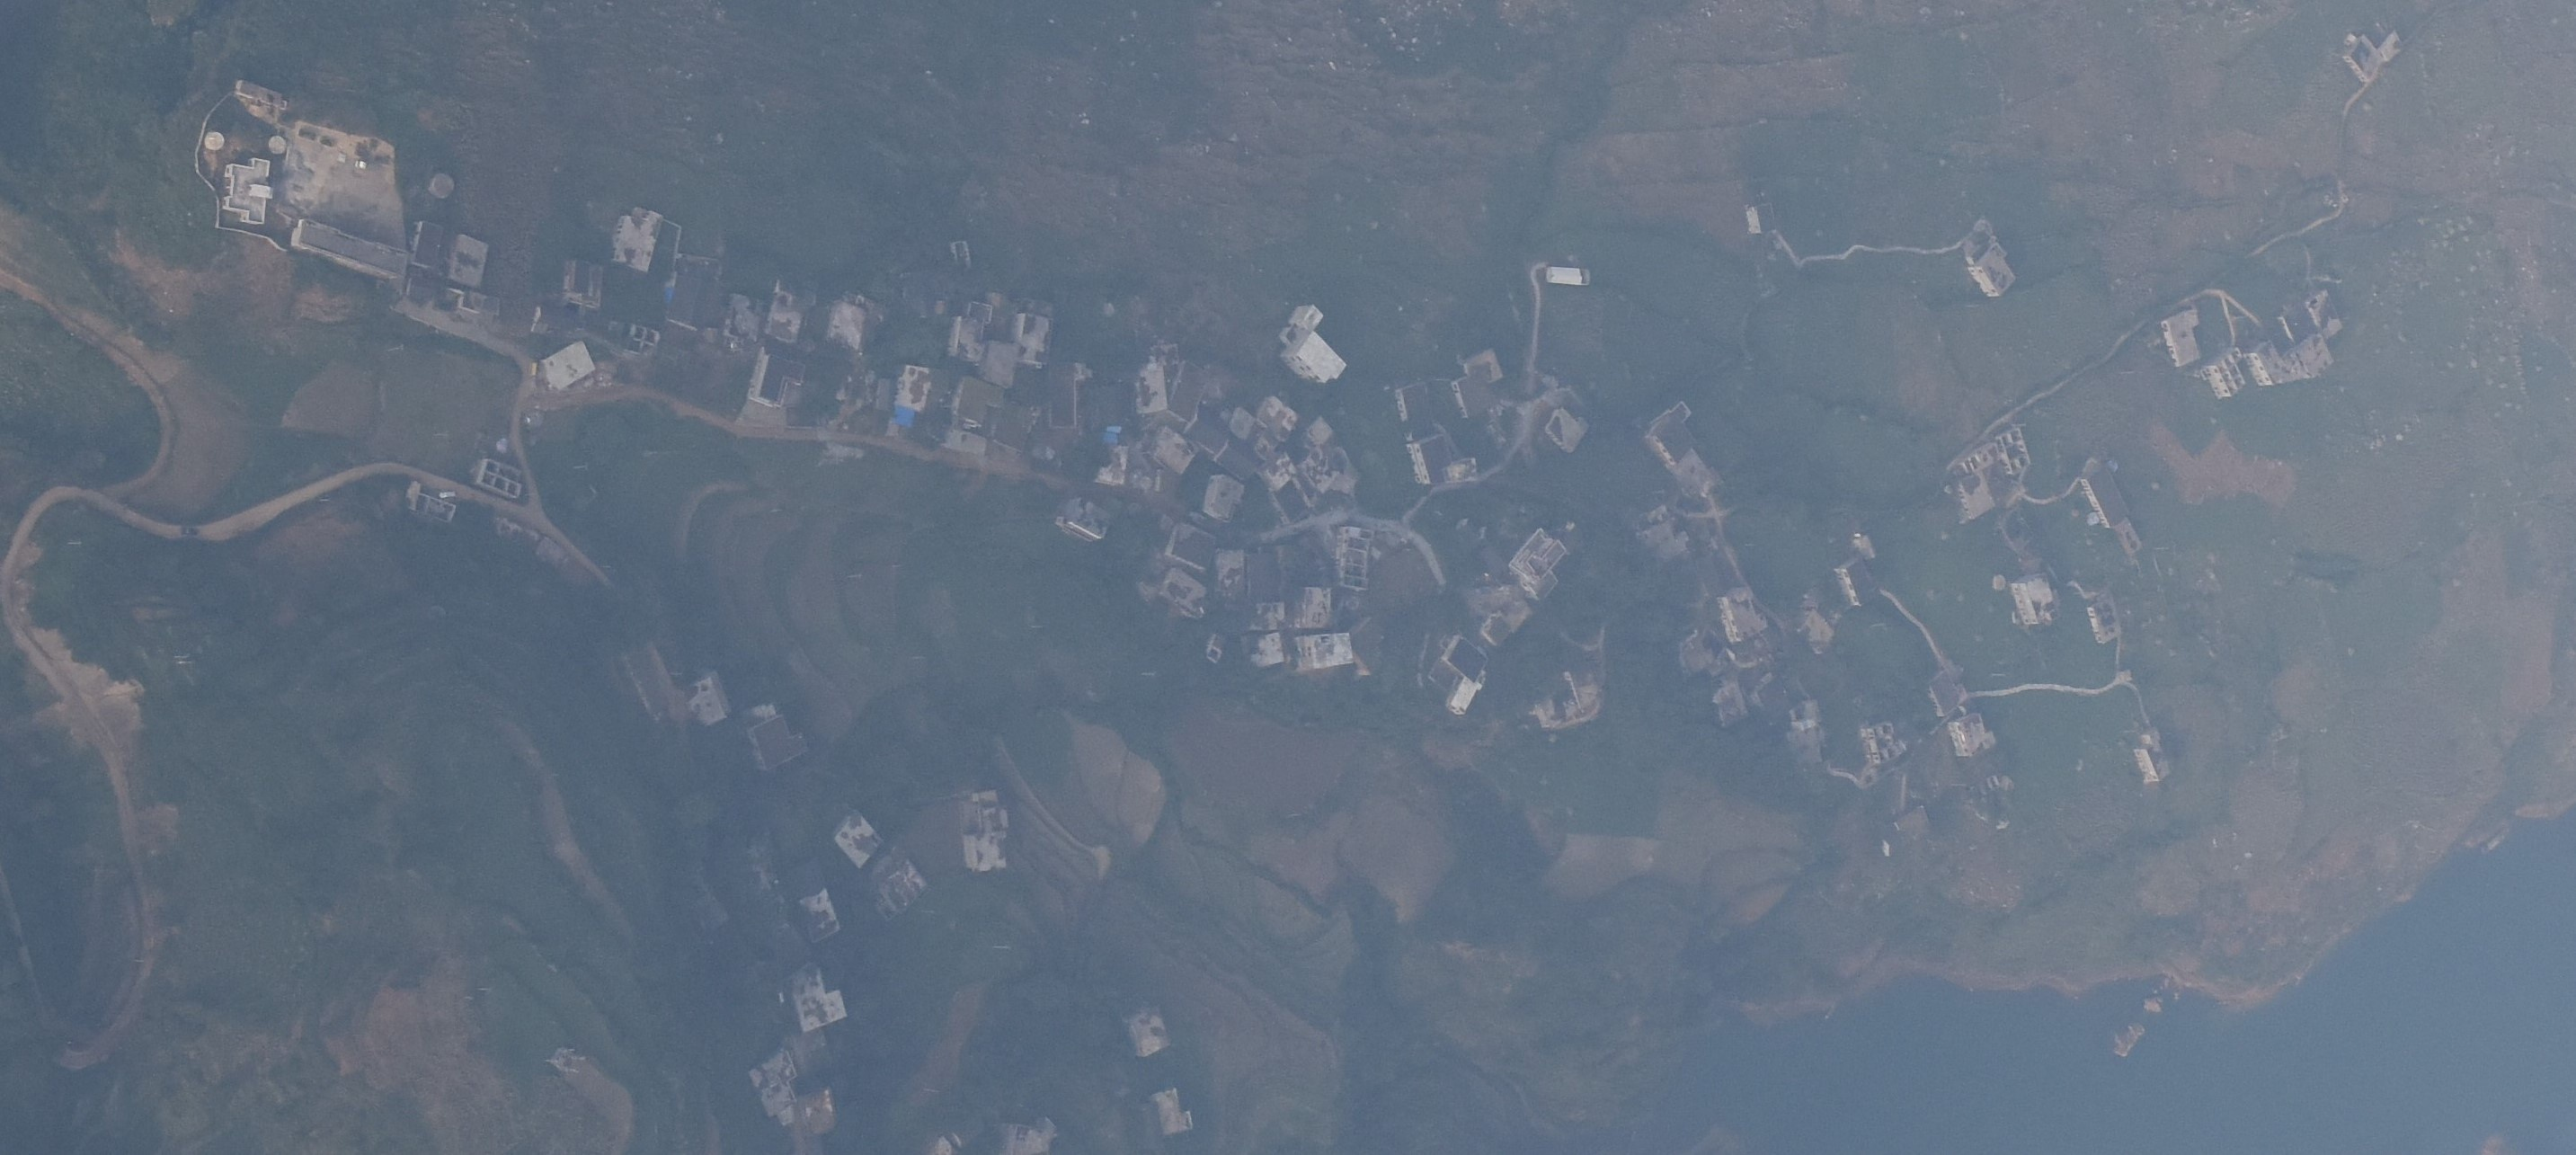building: (289, 218, 413, 284), (1283, 305, 1348, 386), (866, 845, 928, 922), (1507, 521, 1565, 602), (785, 967, 849, 1032), (606, 205, 663, 274), (220, 155, 276, 227), (1042, 356, 1094, 431), (746, 346, 805, 410), (751, 708, 810, 773), (745, 1049, 800, 1117), (947, 373, 1009, 432), (766, 281, 818, 348), (1715, 589, 1772, 645), (535, 340, 597, 392), (2081, 466, 2129, 532), (832, 808, 883, 870), (893, 362, 948, 418), (2244, 341, 2302, 395), (440, 226, 489, 289), (1644, 411, 1698, 467), (559, 253, 608, 315), (669, 268, 717, 330), (1155, 566, 1210, 621), (1964, 240, 2016, 298), (472, 456, 537, 501), (1830, 555, 1883, 609), (1170, 354, 1212, 424), (1127, 1002, 1177, 1061), (1053, 496, 1112, 545), (1337, 520, 1372, 598), (821, 297, 872, 351), (1162, 520, 1216, 571), (1297, 631, 1360, 674), (2159, 307, 2204, 368), (1123, 360, 1170, 416), (722, 286, 763, 351), (1742, 674, 1793, 726), (1204, 546, 1249, 603), (1148, 1087, 1201, 1136), (2286, 333, 2337, 384), (795, 1084, 844, 1134), (1288, 580, 1335, 633), (1147, 428, 1200, 475), (1440, 632, 1486, 686), (1449, 374, 1503, 420), (689, 667, 731, 726), (1009, 310, 1053, 365), (400, 485, 459, 526), (977, 341, 1023, 393), (1439, 670, 1488, 718), (1857, 717, 1906, 765), (2012, 573, 2055, 628), (2083, 598, 2130, 646), (2306, 288, 2350, 340), (2205, 346, 2248, 399), (971, 786, 1017, 835), (795, 889, 840, 938), (1409, 438, 1454, 487), (1543, 408, 1586, 459), (1203, 473, 1245, 525), (961, 831, 1014, 873), (1300, 442, 1343, 493), (1794, 609, 1838, 657), (1920, 670, 1963, 718), (1992, 430, 2036, 476), (1945, 714, 1991, 758), (1395, 381, 1438, 428), (1239, 629, 1287, 671), (1093, 443, 1130, 497), (949, 315, 987, 365), (1457, 347, 1506, 385), (1252, 450, 1295, 493), (1958, 472, 1994, 521), (412, 218, 443, 274), (2136, 739, 2172, 786), (2278, 303, 2321, 344), (1258, 395, 1294, 443), (1248, 600, 1293, 634), (1959, 442, 2004, 471), (1305, 413, 1338, 451), (1480, 609, 1512, 644), (1444, 458, 1481, 486)
prefabricated-house: (1541, 262, 1591, 289), (891, 404, 919, 430), (1102, 430, 1120, 449)
well: (429, 171, 457, 200), (204, 130, 227, 154), (1988, 571, 2008, 596), (266, 135, 286, 158), (2086, 511, 2101, 529), (1941, 482, 1955, 498)
